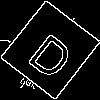D: (25, 24, 82, 82)
